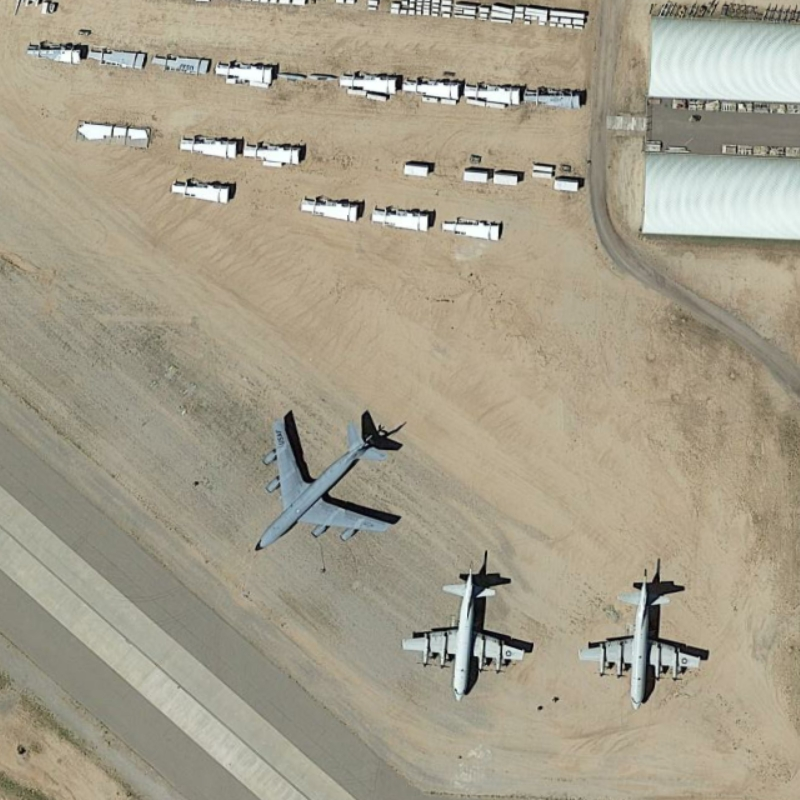A14: (254, 402, 404, 558)
A9: (392, 565, 537, 702), (576, 561, 711, 706)
